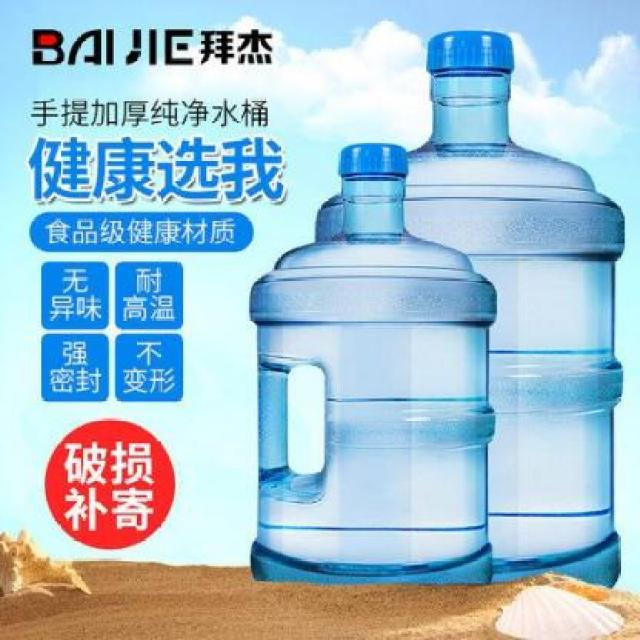coolerbottle: (246, 135, 502, 593)
